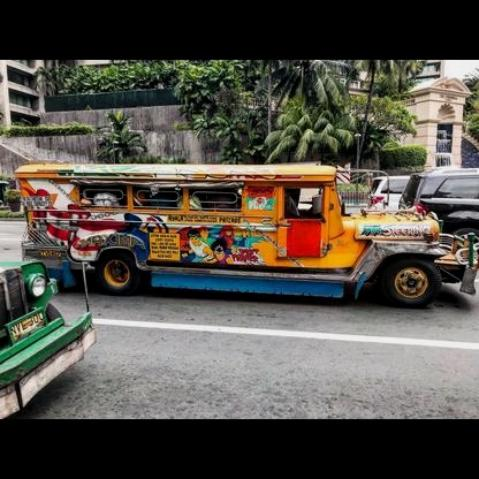jeepney: (19, 142, 469, 331)
